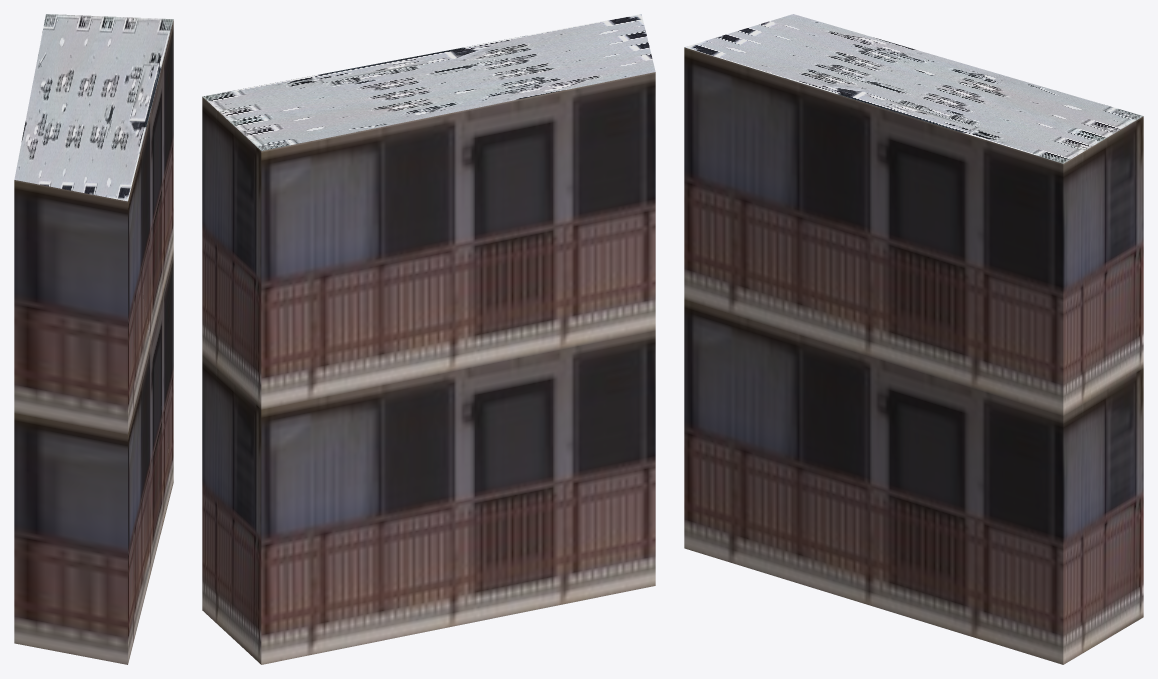
Rendered from ResTex__3874.fbx.
3 views of the same model, side by side, from view 1: azimuth 30°, elevation 25°; view 2: azimuth 150°, elevation 25°; view 3: azimuth 270°, elevation 25° (orthographic). The views are drawn at different scales.
Parts seen in each view (by area): view 1: CityEngineMaterial_6_m, CityEngineMaterial_m; view 2: CityEngineMaterial_6_m, CityEngineMaterial_m; view 3: CityEngineMaterial_6_m, CityEngineMaterial_m.
Boxes of the visible parts, x1=… form: CityEngineMaterial_6_m: x1=14, y1=20, x2=173, y2=664; CityEngineMaterial_m: x1=14, y1=14, x2=173, y2=201; CityEngineMaterial_6_m: x1=202, y1=72, x2=655, y2=664; CityEngineMaterial_m: x1=202, y1=14, x2=655, y2=150; CityEngineMaterial_6_m: x1=684, y1=47, x2=1143, y2=664; CityEngineMaterial_m: x1=685, y1=14, x2=1143, y2=163.
Size of the model in its own units: 3.85 by 6 by 4.99.
Materials: 2 (2 with a texture image).
